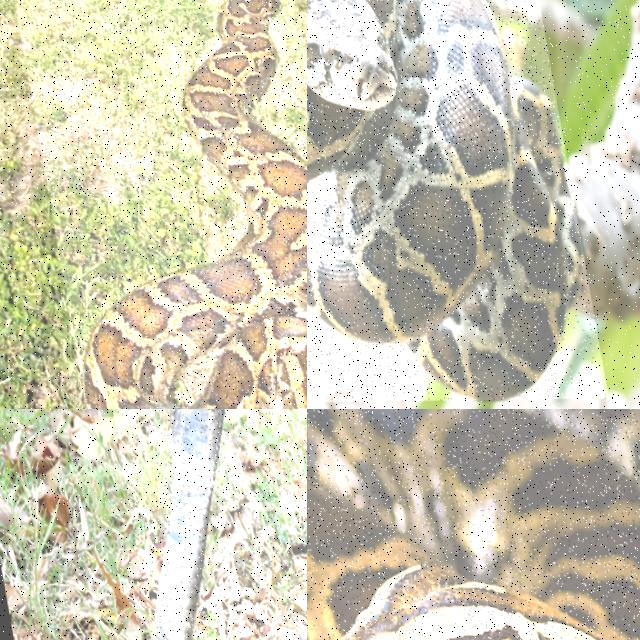Naja kaouthia: (156, 409, 226, 639)
Python bivittatus: (307, 0, 582, 400), (84, 0, 306, 408), (307, 409, 639, 639)
